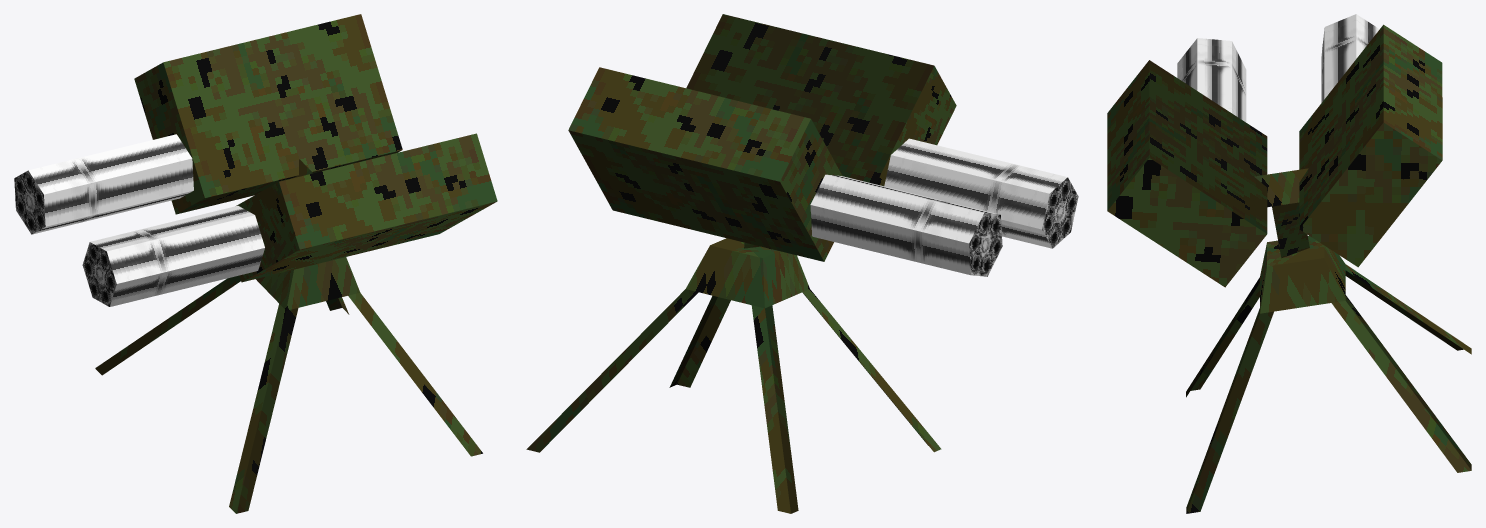
File: primary_357.glb
3 views of the same model, side by side, from view 1: azimuth 30°, elevation 25°; view 2: azimuth 150°, elevation 25°; view 3: azimuth 270°, elevation 25° (orthographic). The views are drawn at different scales.
Parts seen in each view (by area): view 1: Object; view 2: Object; view 3: Object.
Part boxes in pixels (left/top/right/bottom): Object: left=14, top=14, right=497, bottom=513; Object: left=526, top=14, right=1078, bottom=513; Object: left=1107, top=14, right=1471, bottom=513.
Size of the model in its own units: 1.7 by 1.63 by 1.42.
4 materials, 4 textured.
